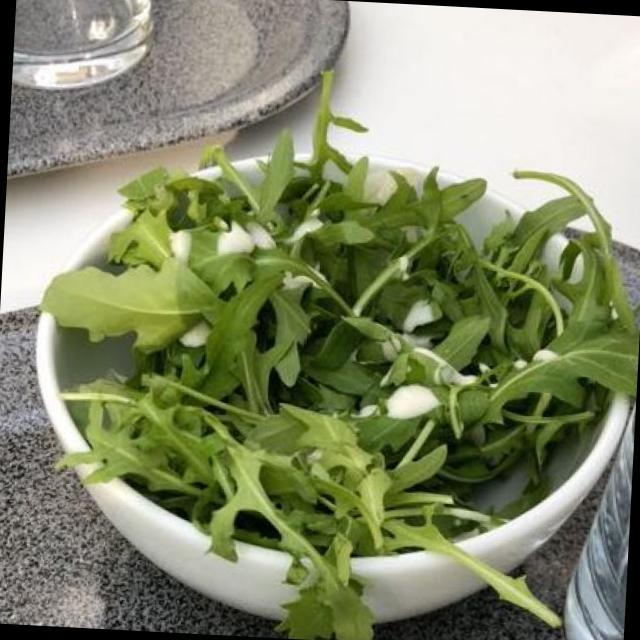Green Salad: (74, 150, 627, 556)
